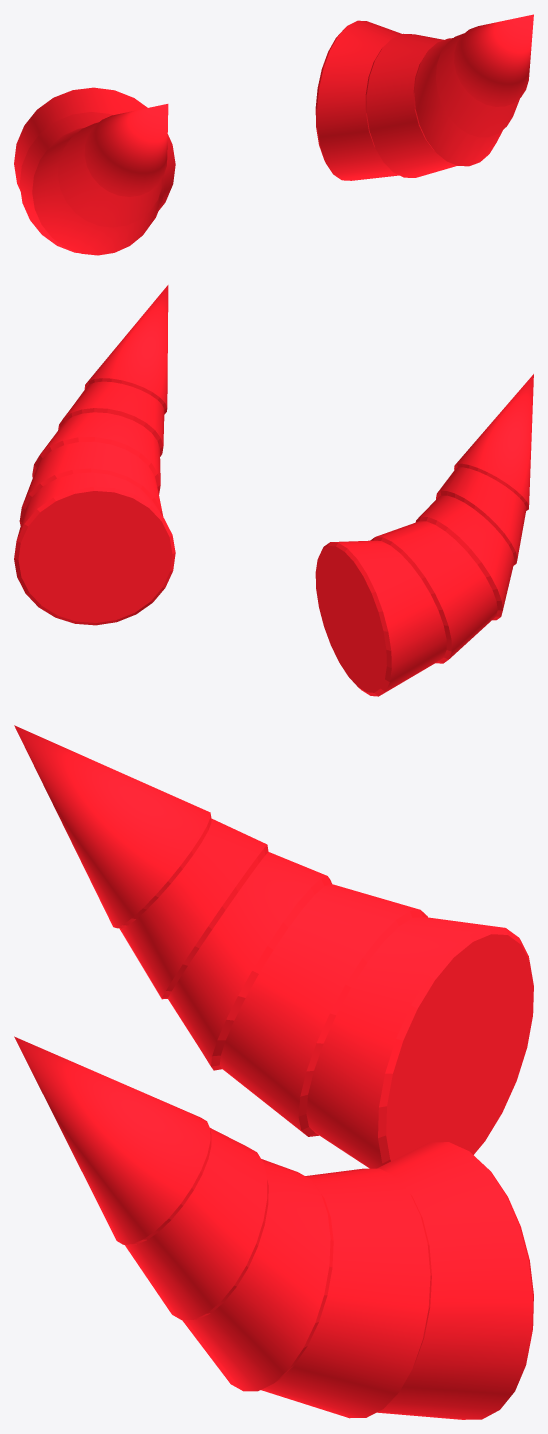
The model's file is horns.gltf.
3 renders of one model, top to bottom at view 1: azimuth 30°, elevation 25°; view 2: azimuth 150°, elevation 25°; view 3: azimuth 270°, elevation 25°, orthographic. The views are drawn at different scales.
Parts seen in each view (by area): view 1: Horn; view 2: Horn; view 3: Horn.
Boxes of the visible parts, <box> form: Horn: <box>14,14,533,255</box>; Horn: <box>14,285,533,696</box>; Horn: <box>14,725,533,1419</box>.
Size of the model in its own units: 29.89 by 14.62 by 16.52.
